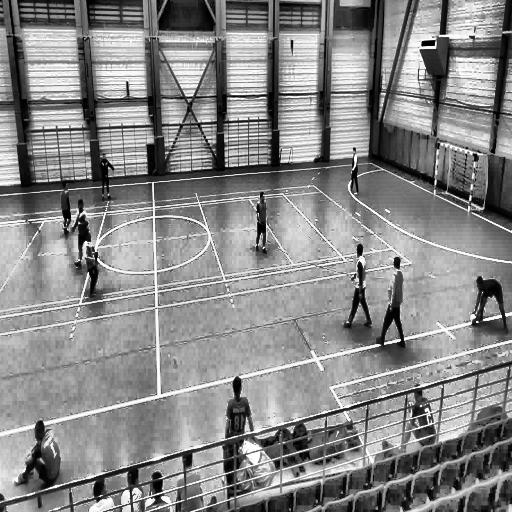ball: (470, 312, 478, 323)
player: (377, 255, 405, 346), (225, 376, 254, 462), (344, 244, 373, 328), (473, 274, 509, 338), (72, 199, 90, 270), (82, 230, 98, 297), (256, 190, 268, 254), (60, 181, 72, 235), (100, 154, 114, 200), (349, 146, 359, 196)
